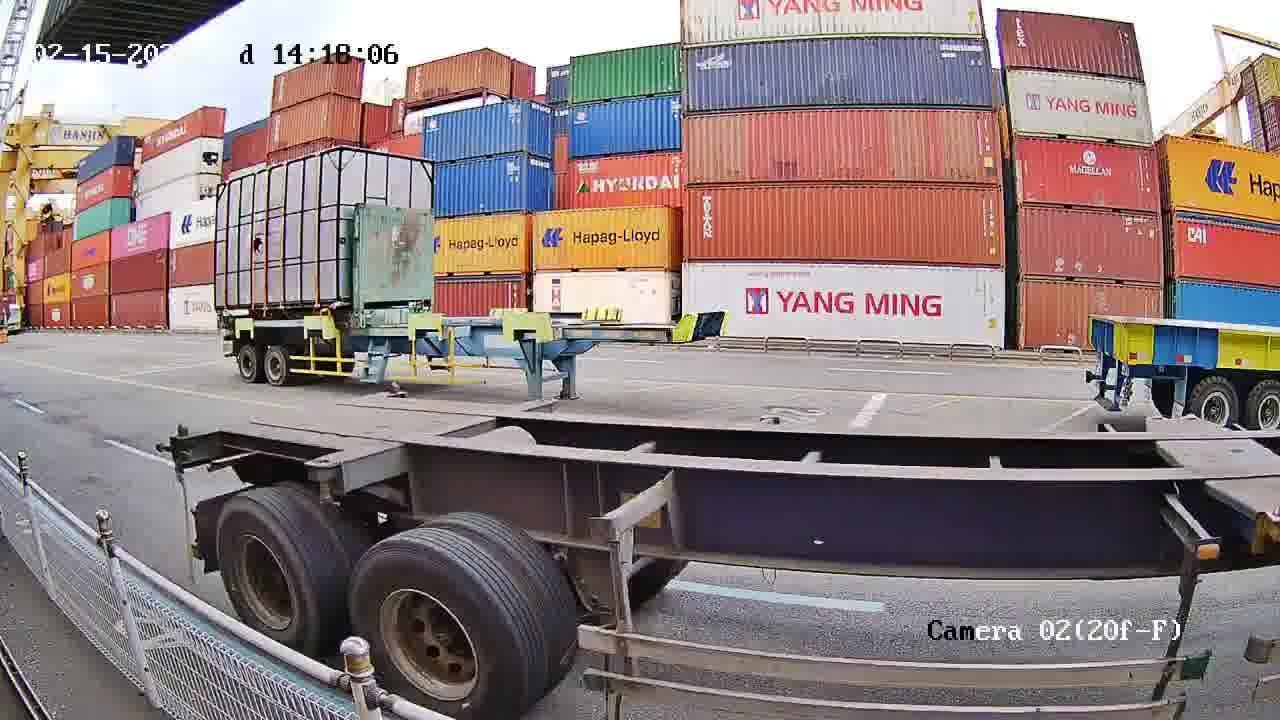Chassis: (171, 388, 410, 467)
Cone: (171, 422, 192, 468), (385, 379, 407, 404)
Tire: (350, 539, 527, 714), (214, 497, 314, 646)
